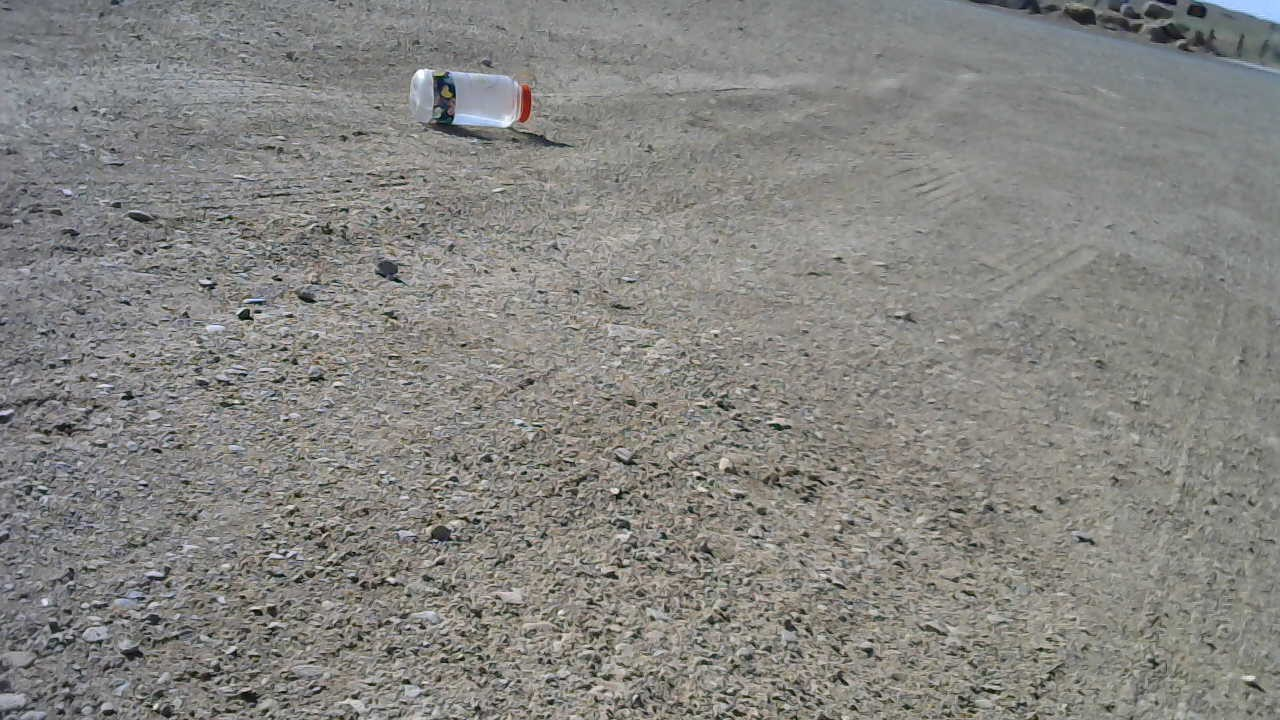bottle: (408, 62, 536, 132)
